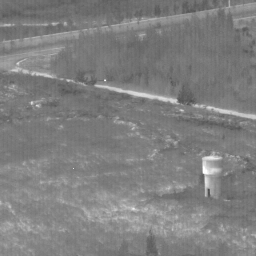aircraft: (104, 80, 106, 82)
